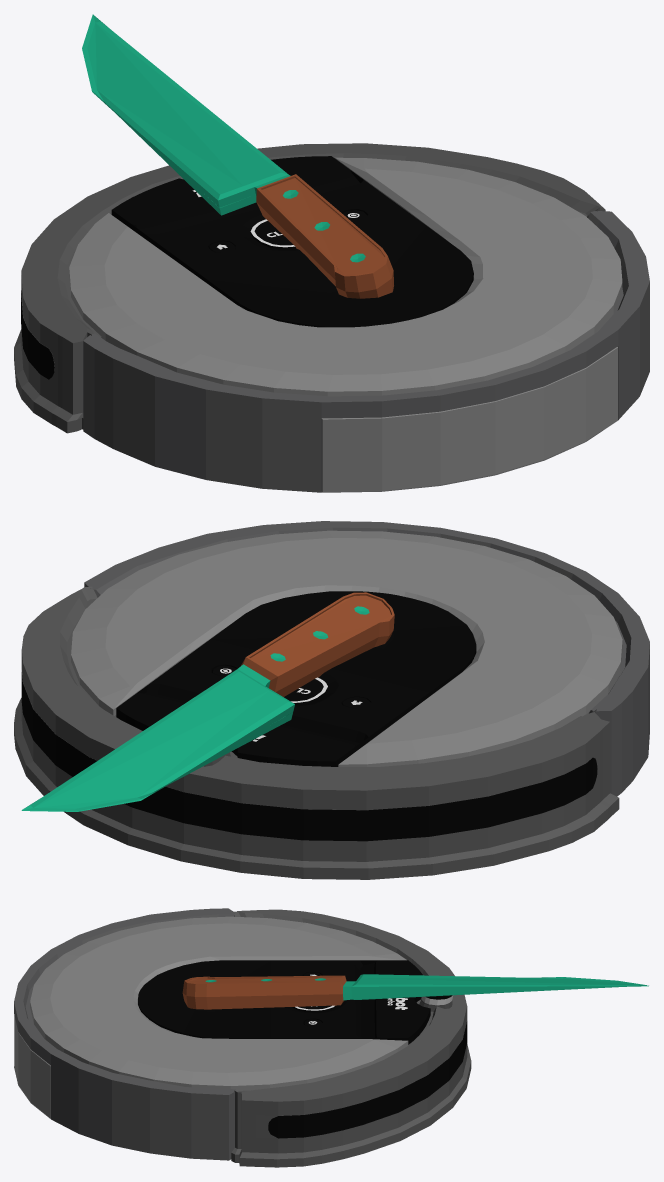
File: Ankle Biter Model.fbx
The picture shows the model from 3 angles, top to bottom: view 1: azimuth 30°, elevation 25°; view 2: azimuth 150°, elevation 25°; view 3: azimuth 270°, elevation 25°; orthographic projection. The views are drawn at different scales.
Parts seen in each view (by area): view 1: Cylinder, Cylinder.002, Cube, Cylinder.001, Cube_0, Cube_1; view 2: Cylinder.001, Cylinder, Cube, Cube_0, Cylinder.002, Cube_1; view 3: Cylinder, Cylinder.001, Cylinder.002, Cube, Cube_0, Cube_1.
Boxes of the visible parts, x1,y1,x2,y2 form: Cylinder: (69,157,622,396); Cylinder.002: (83,211,649,492); Cube: (111,156,473,327); Cylinder.001: (14,143,605,433); Cube_0: (82,14,365,262); Cube_1: (256,174,393,298); Cylinder.001: (14,586,619,879); Cylinder: (71,530,622,766); Cube: (116,591,476,766); Cube_0: (21,606,369,811); Cylinder.002: (84,521,649,796); Cube_1: (240,592,394,696); Cylinder: (30,916,408,1092); Cylinder.001: (231,909,471,1167); Cylinder.002: (14,908,235,1160); Cube: (138,960,430,1044); Cube_0: (205,974,648,1000); Cube_1: (182,975,346,1009).
Size of the model in its own units: 508 by 117 by 690.
